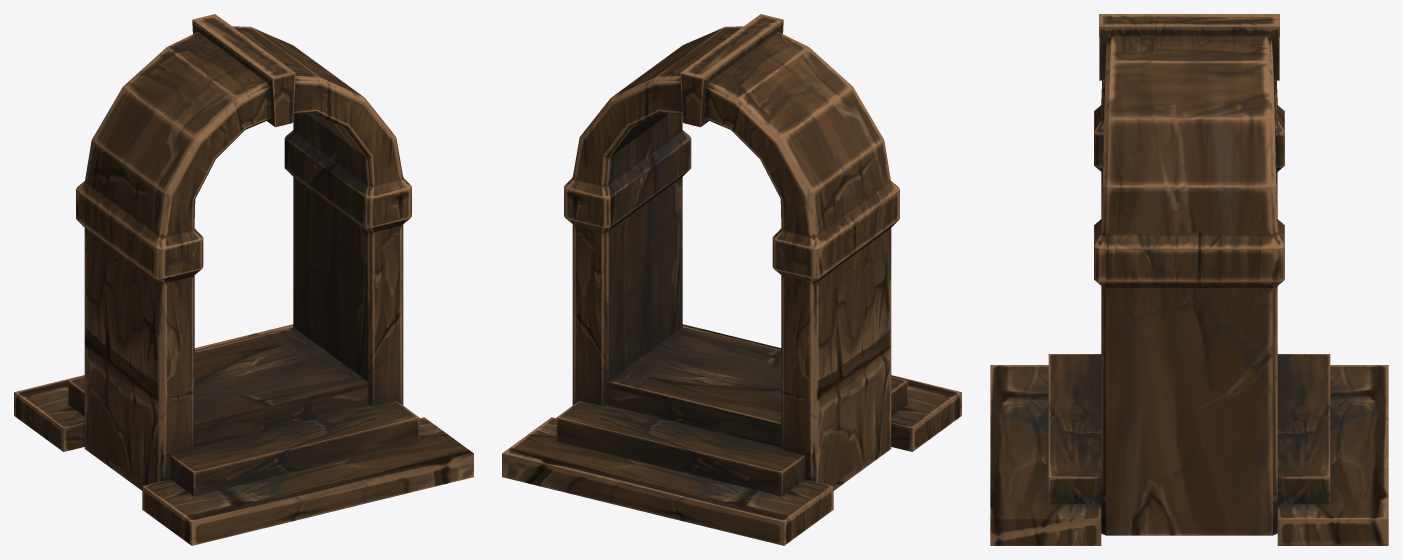
Rendered from Portal_Wooden_Gate.glb.
3 views of the same model, side by side, from view 1: azimuth 30°, elevation 25°; view 2: azimuth 150°, elevation 25°; view 3: azimuth 270°, elevation 25° (orthographic). The views are drawn at different scales.
Visible parts, largest first — view 1: PortalGate_lambert1_0; view 2: PortalGate_lambert1_0; view 3: PortalGate_lambert1_0.
Boxes of the visible parts, <box> form: PortalGate_lambert1_0: <box>14,14,473,545</box>; PortalGate_lambert1_0: <box>502,14,961,545</box>; PortalGate_lambert1_0: <box>990,14,1388,545</box>.
Bounding box in the file's own units: 2.5 × 3.39 × 2.73.
Materials: 1 (1 with a texture image).
